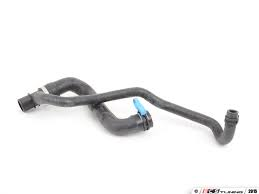radiator_hose: (17, 78, 153, 133)
